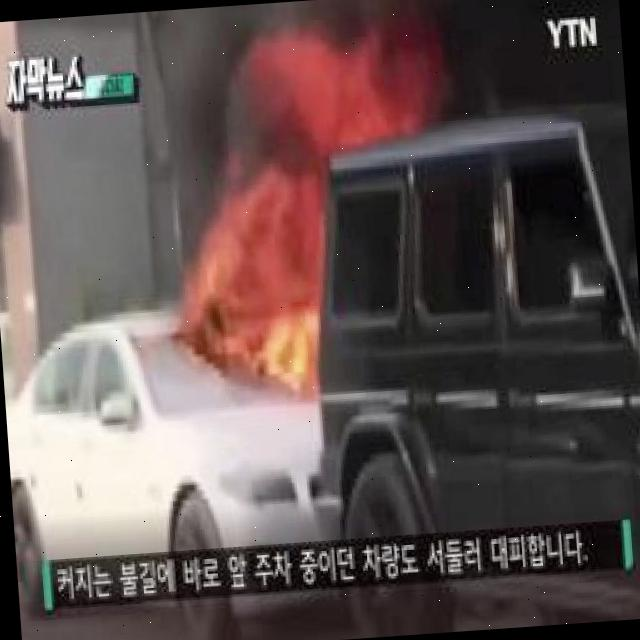fire: (195, 41, 442, 382)
